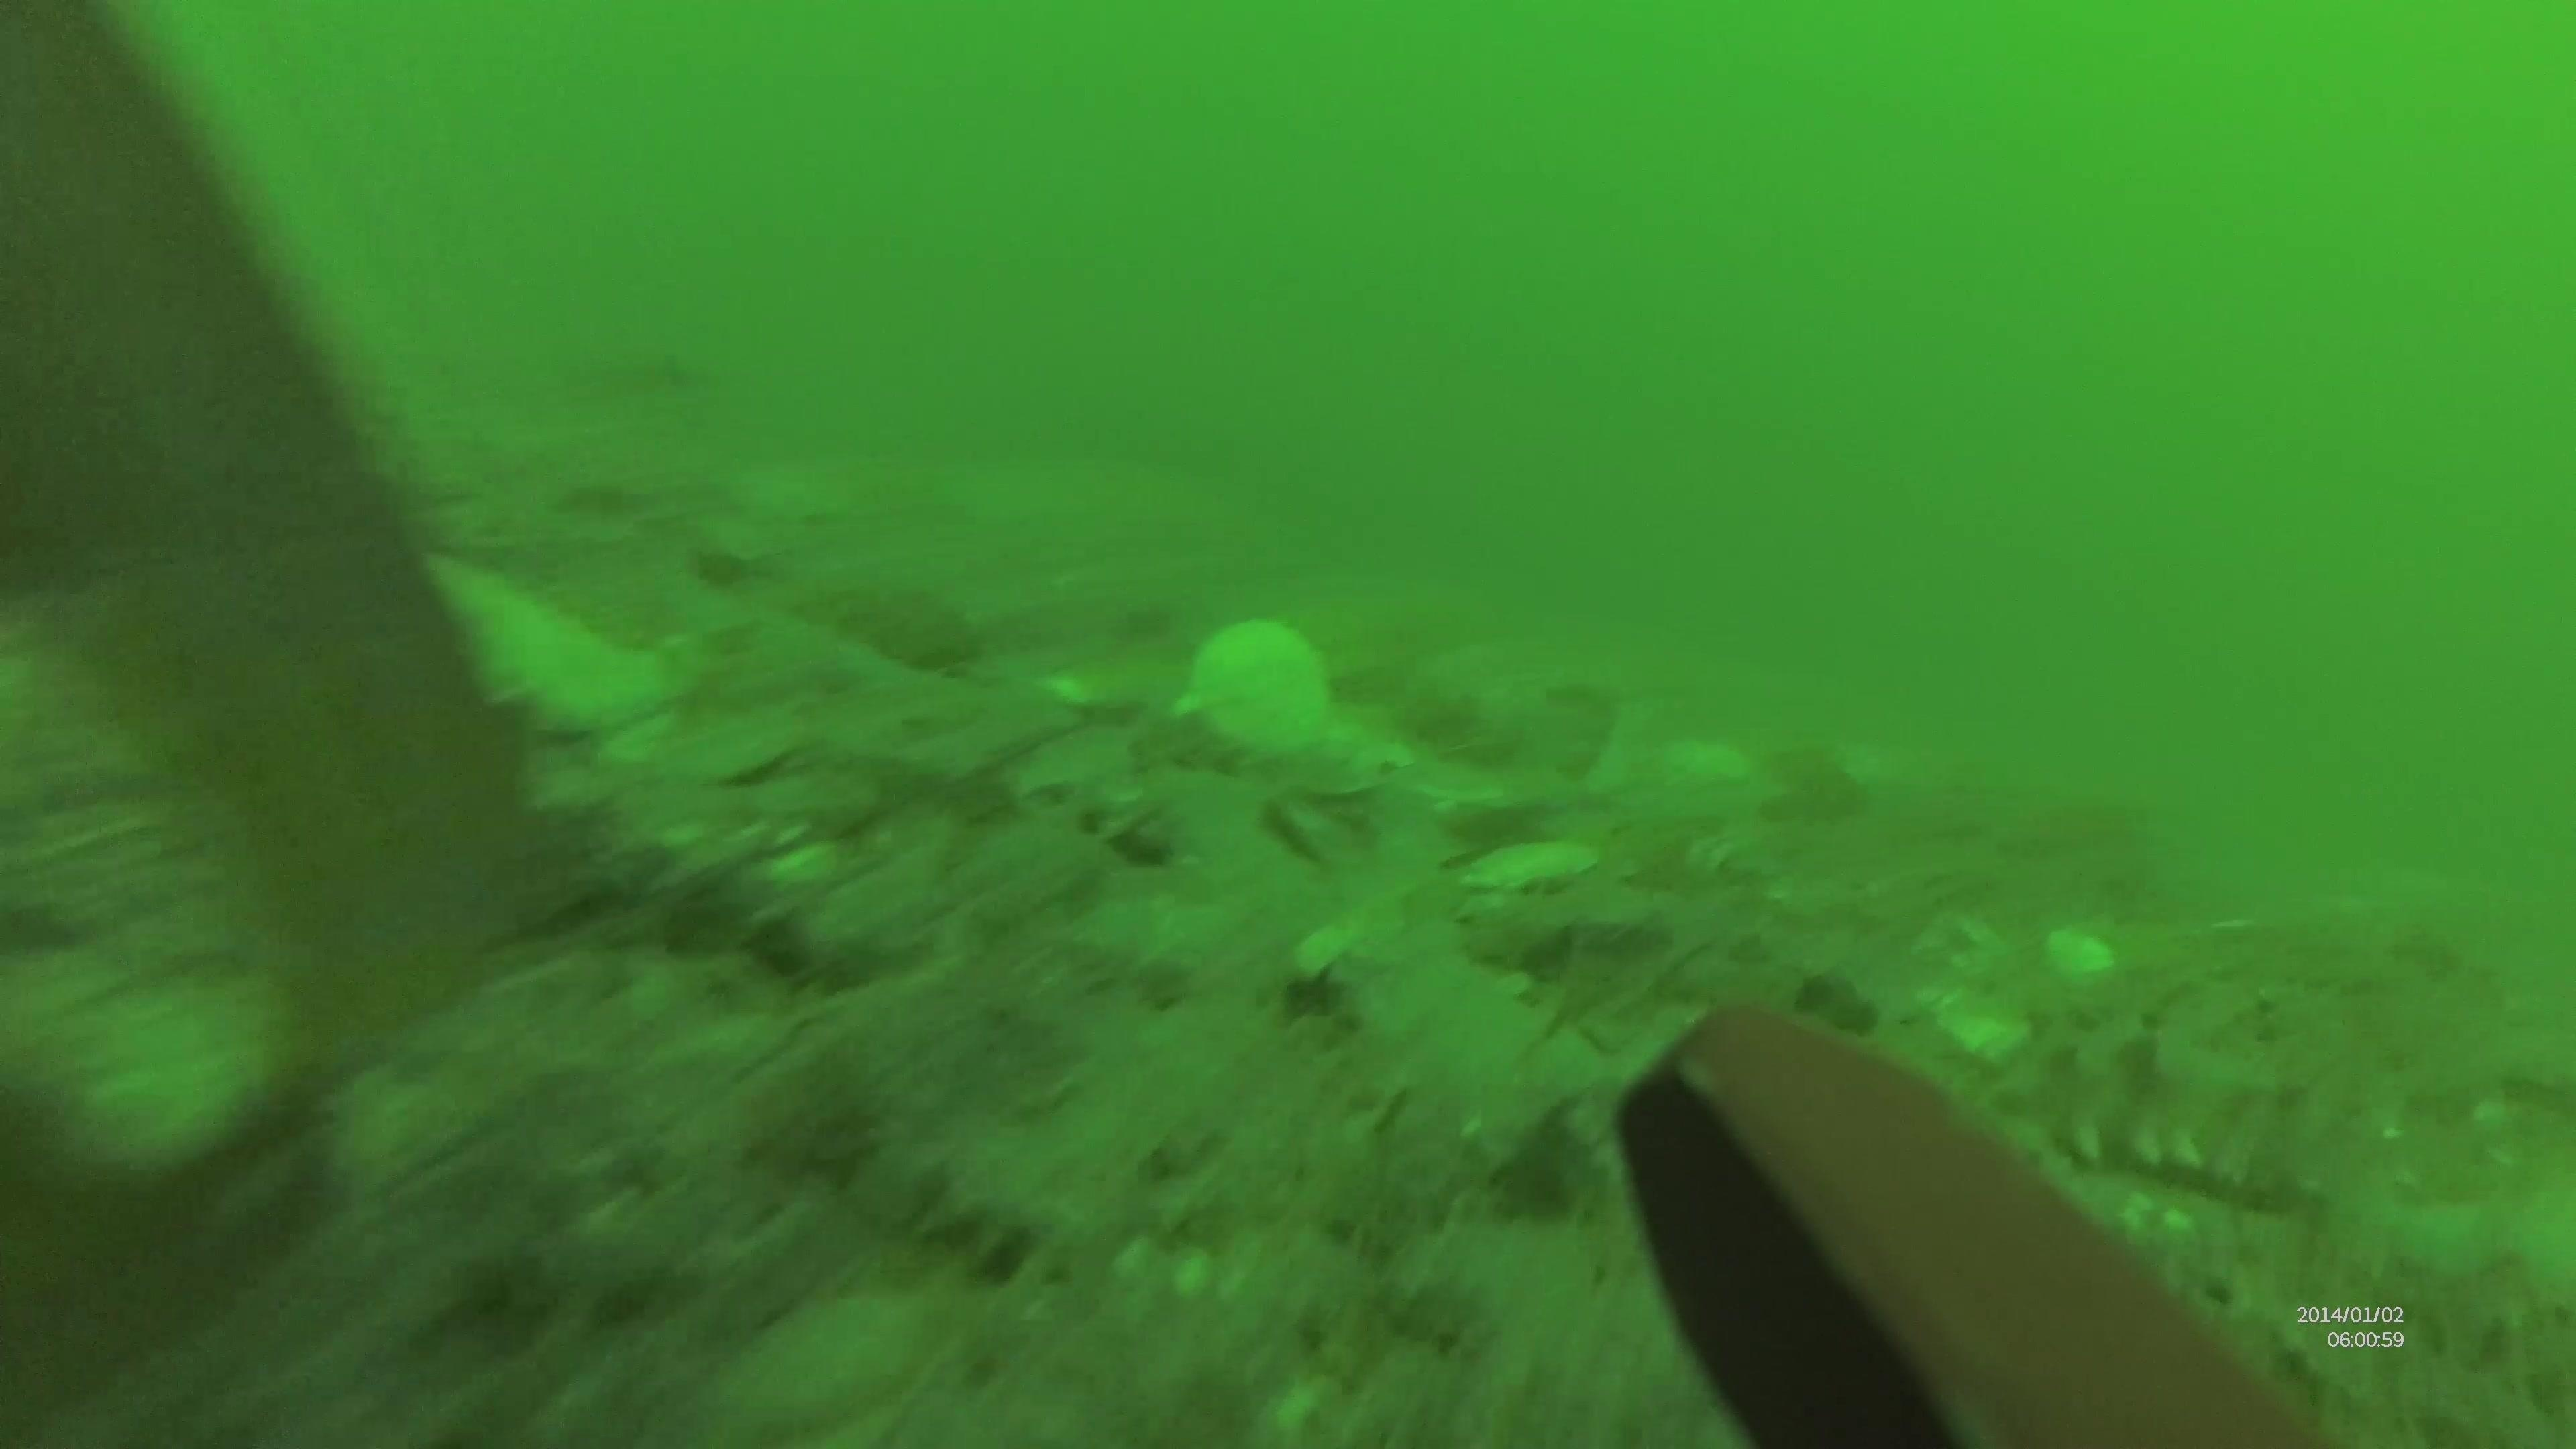holothurian: (1976, 1028, 2351, 1217)
